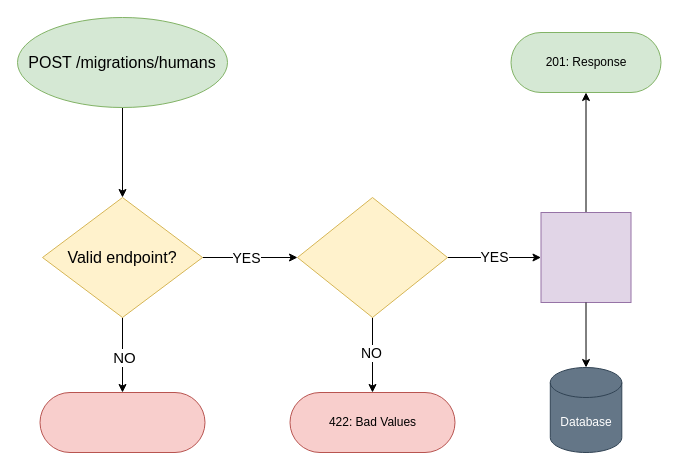
Image size: 679x470. Some labels were removed from this diagram. Each missing label, with the box of its shape:
400: Bad Request: (39, 392, 205, 452)
Query: (540, 212, 631, 302)
Valid parameters values?: (296, 196, 448, 318)
